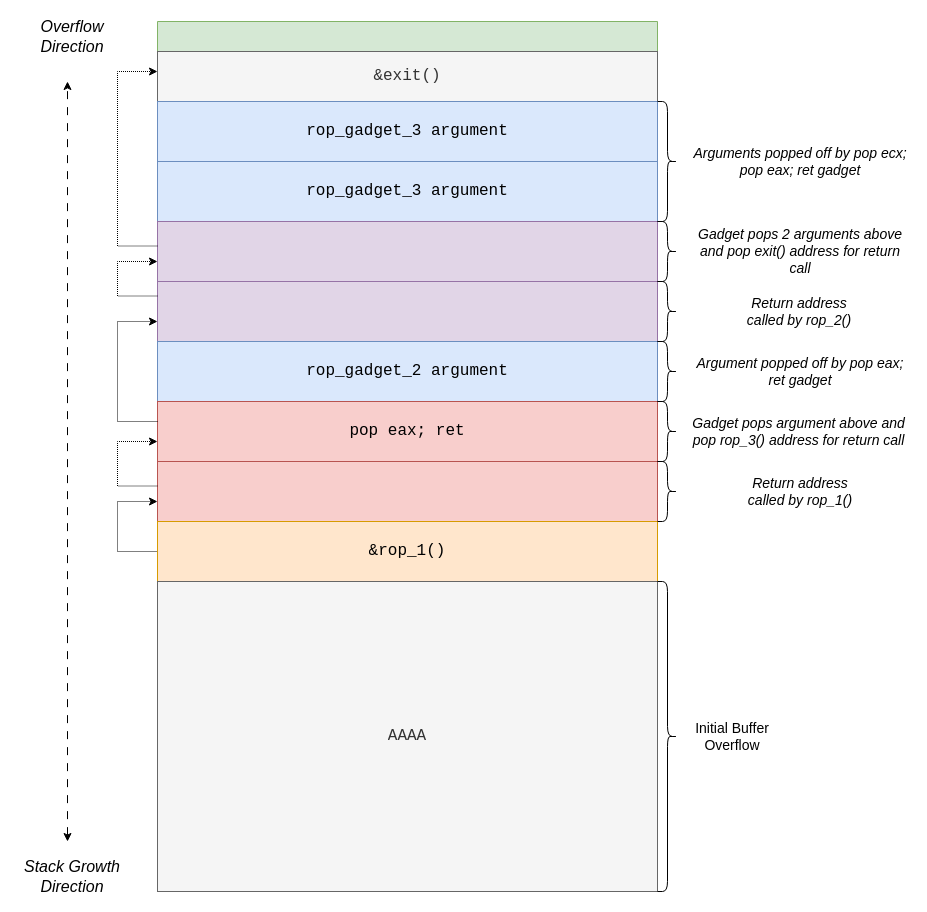
Image size: 927x912. Some labels were removed from this diagram. The box of each missing label's shape, as (x1, y1, x2, y2) in pixels:
&rop_2(): (156, 460, 658, 522)
&rop_3(): (156, 280, 658, 342)
pop ecx; pop eax; ret: (156, 220, 658, 282)
